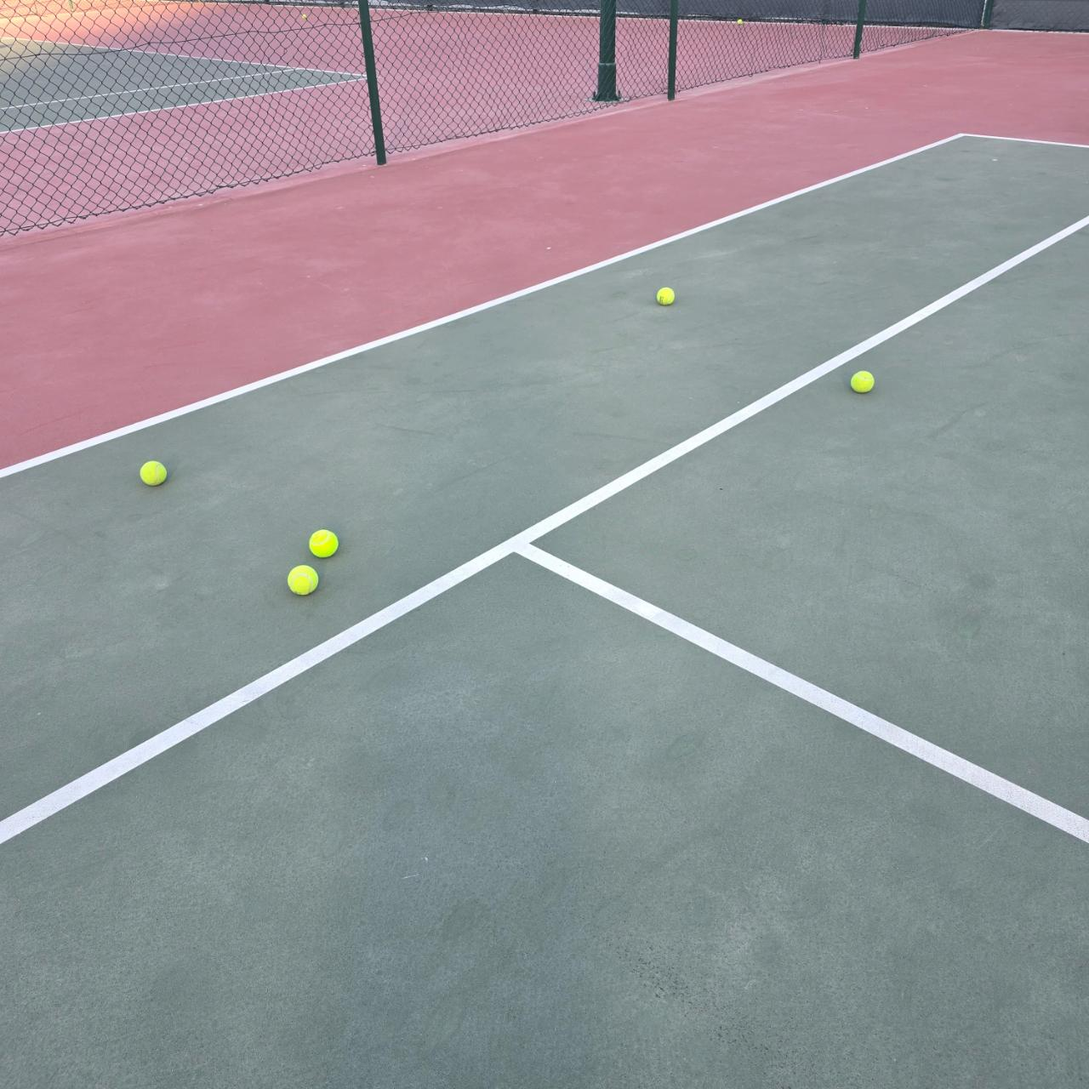tennis-ball: (285, 562, 319, 596), (307, 526, 339, 558), (138, 458, 167, 487), (848, 368, 875, 393), (654, 285, 675, 305)
